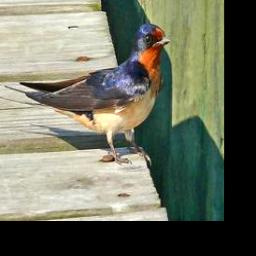Swallow: (21, 23, 171, 167)
